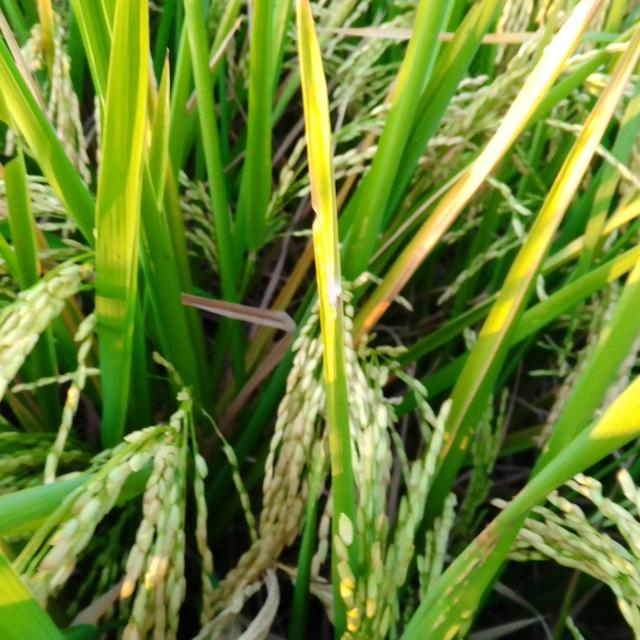Brown spot: (189, 285, 290, 340), (232, 359, 272, 408)
